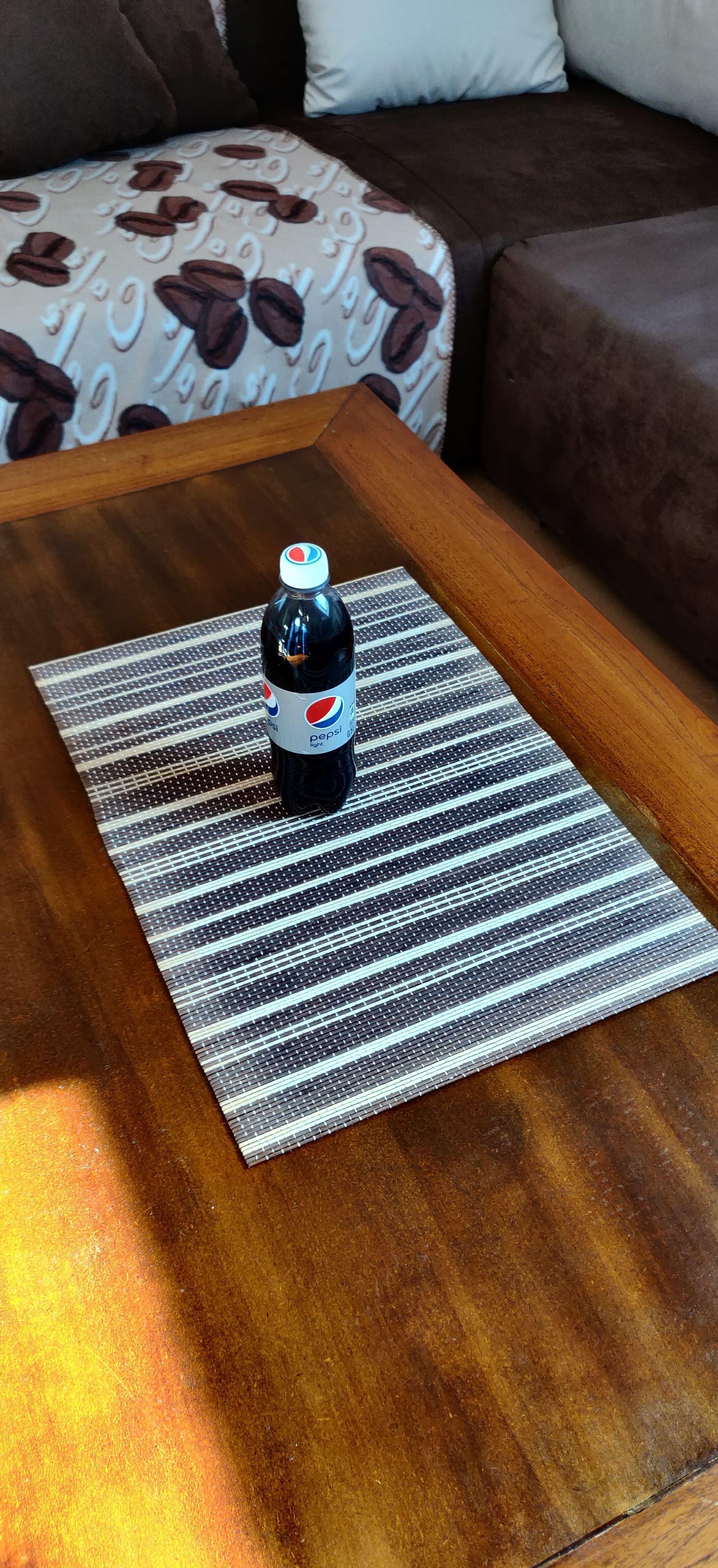bottle-plastic: (258, 540, 358, 823)
